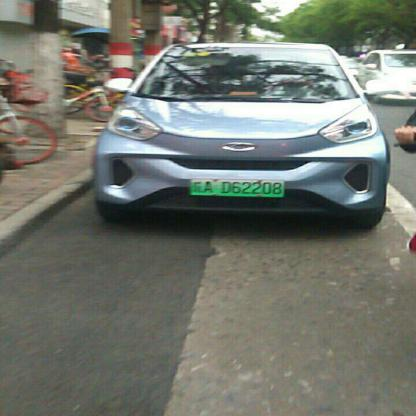lp: (190, 178, 284, 196)
